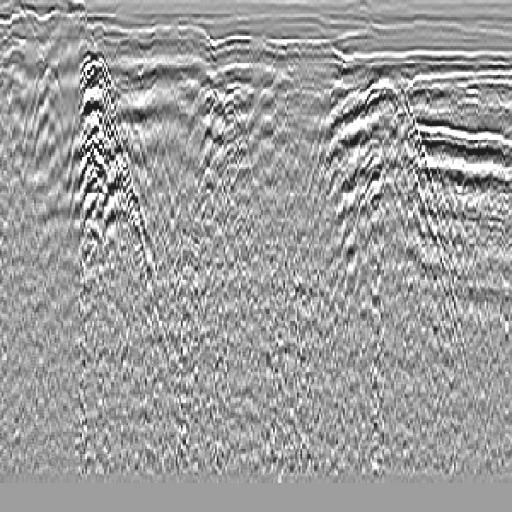metalic: (37, 39, 170, 314), (87, 115, 165, 350)
non-metallic: (317, 67, 445, 276)
